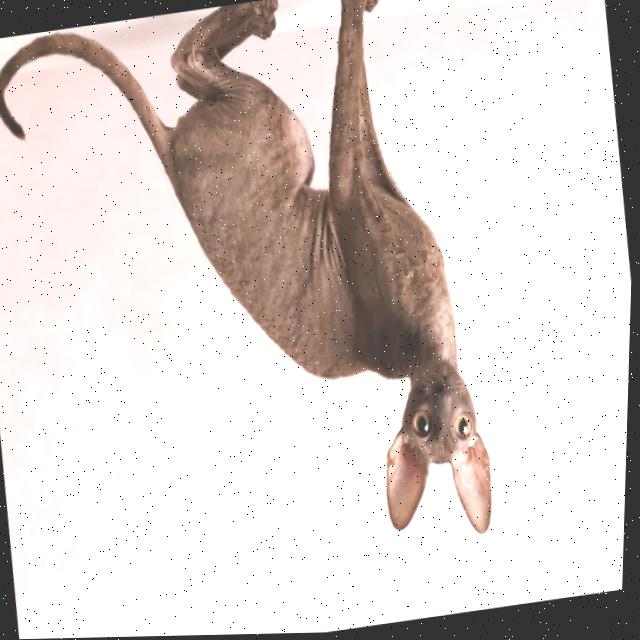Cornish Rex: (0, 0, 515, 602)
